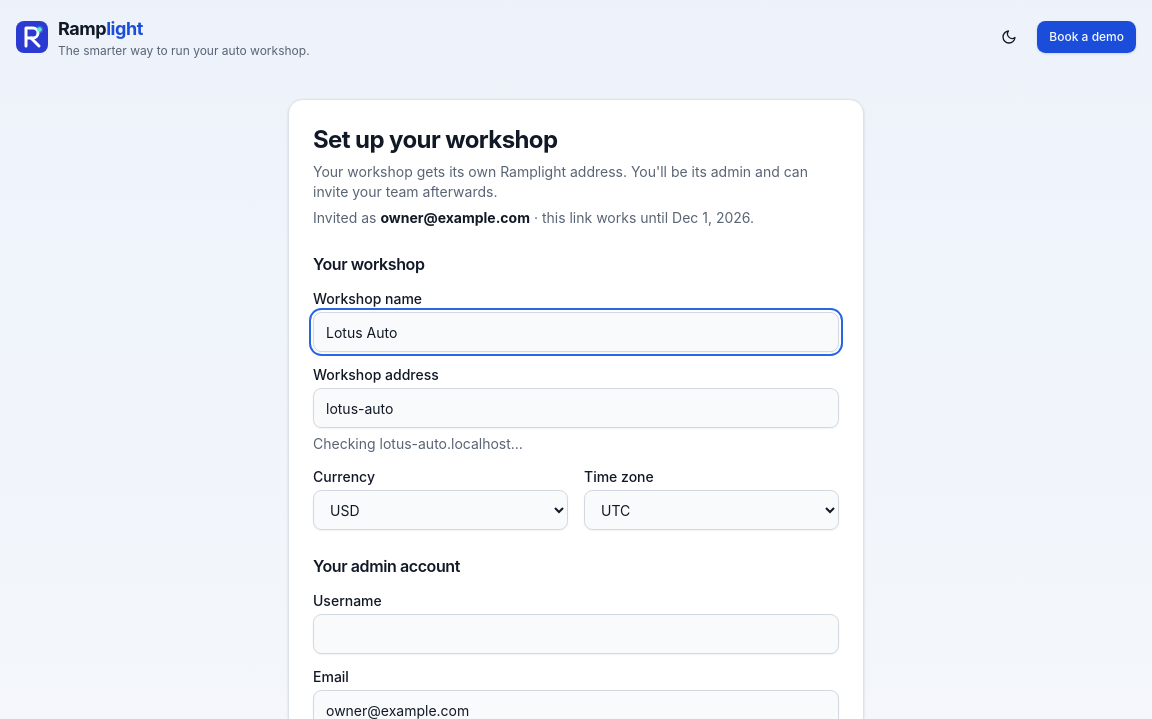
Test: the public site (base domain) › fills in the invite and says so when the link is used up meanwhile
The image size is (1152, 719).
Expected: the element with test id "invite-for" shows "Invited as owner@example.com", [313, 209, 754, 226]
Expected: the field labelled "Workshop name" holds "Lotus Auto", [313, 312, 839, 352]
Type "owner" into the field labelled "Username" at x=576, y=634, box [313, 614, 839, 654]
(page scrolled)
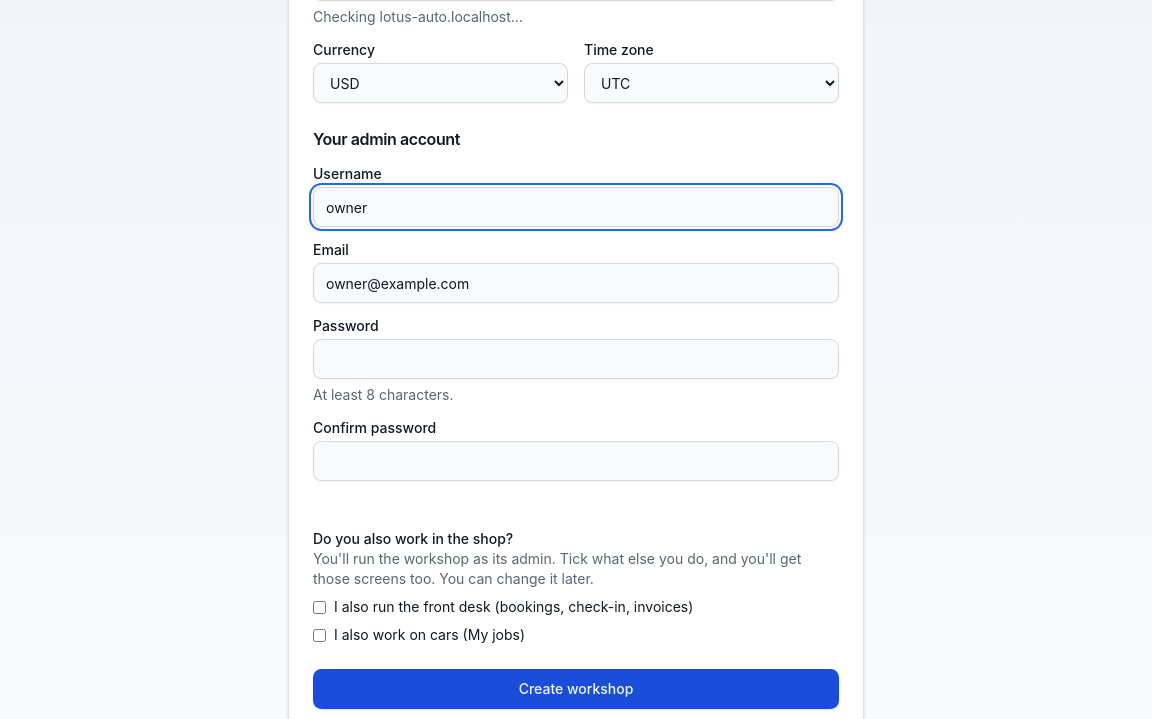
Type "Correct-Horse-1" into the password field labelled "Password" at x=576, y=359, box [313, 339, 839, 379]
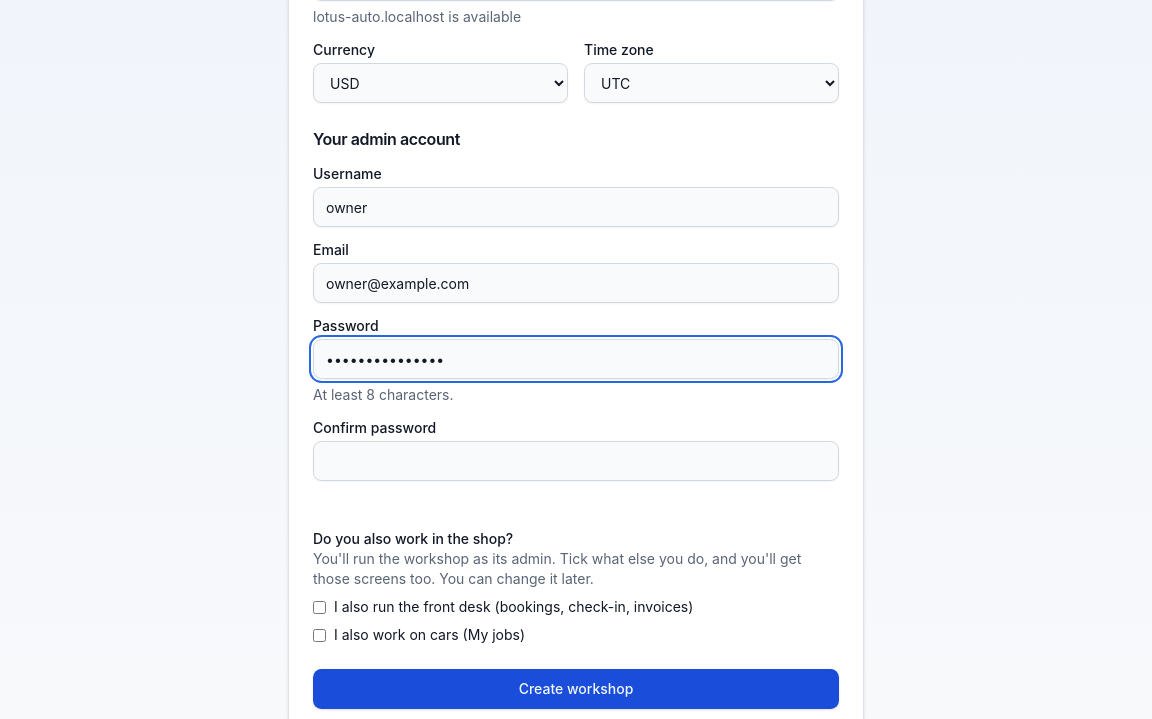
Type "Correct-Horse-1" into the password field labelled "Confirm password" at x=576, y=461, box [313, 441, 839, 481]
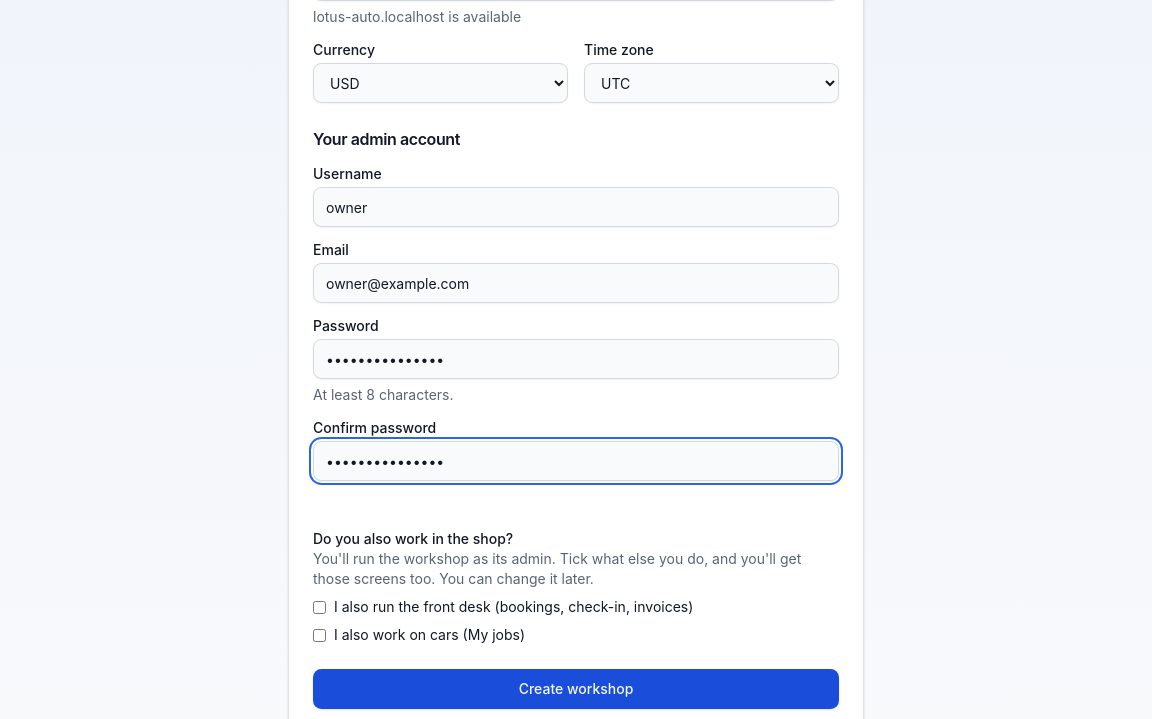
Now the text "lotus-auto.localhost is available" is shown, box [313, 8, 521, 25]
Click the button "Create workshop" at x=576, y=689, box [313, 669, 839, 709]
(page scrolled)
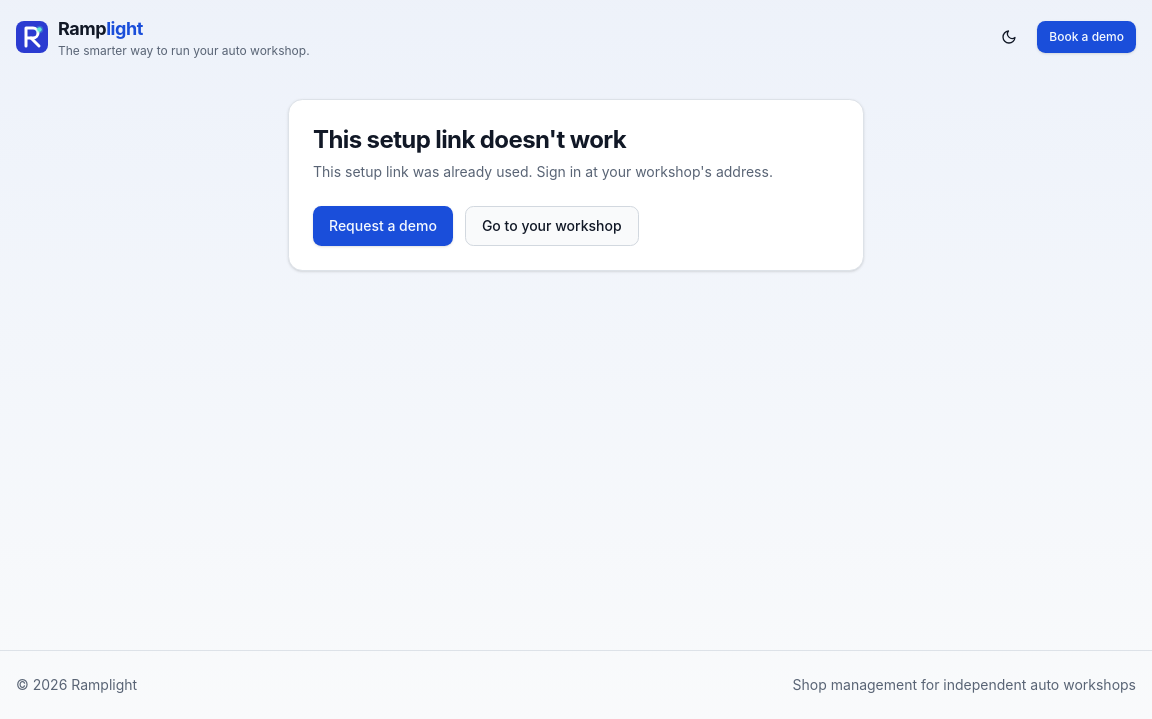
Now the text "This setup link was already used. Sign in at your workshop's address." is shown, box [313, 162, 839, 182]
